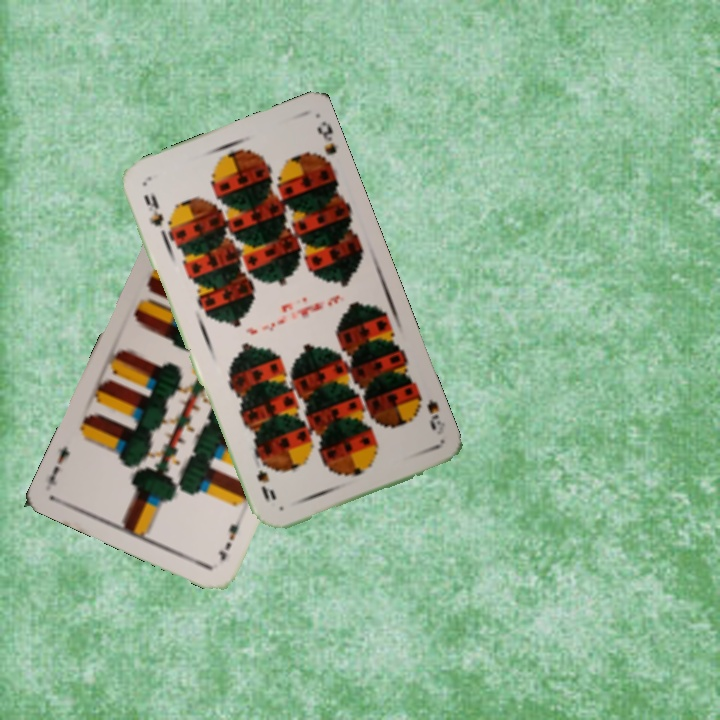E7: (214, 511, 246, 564)
S9: (409, 387, 448, 438), (139, 190, 173, 237)
